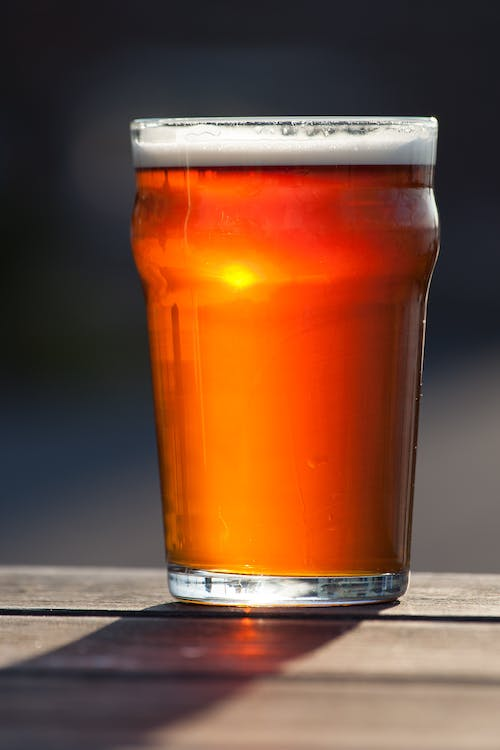alcohol: (126, 115, 443, 610)
